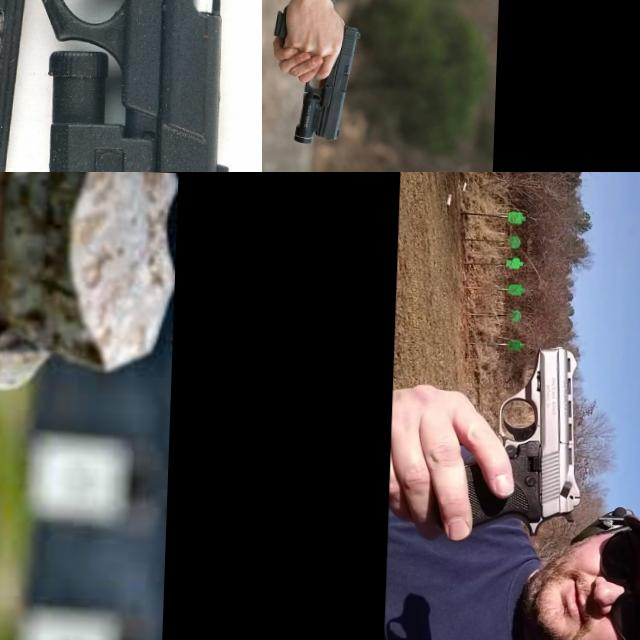handgun: (0, 0, 249, 172), (492, 341, 588, 543), (302, 22, 359, 142), (0, 476, 37, 616)
